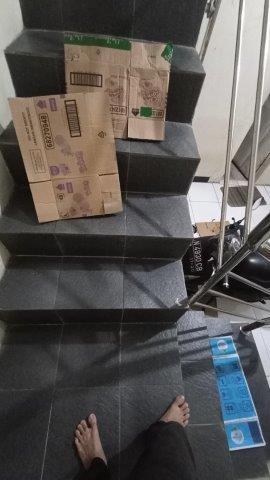kardus: (9, 94, 122, 222), (64, 32, 173, 140)
